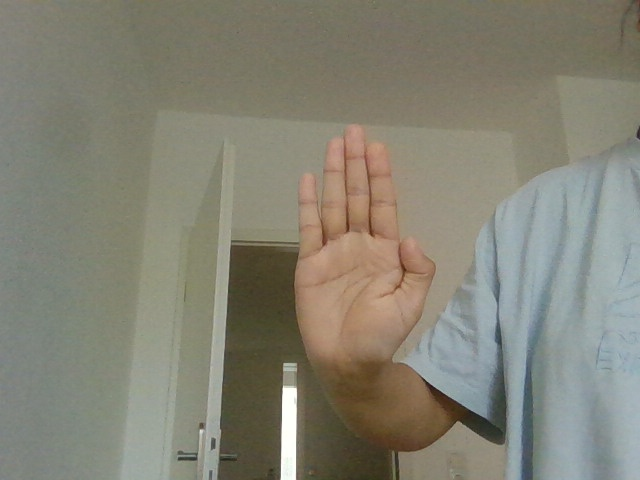open_hand: (280, 122, 459, 409)
